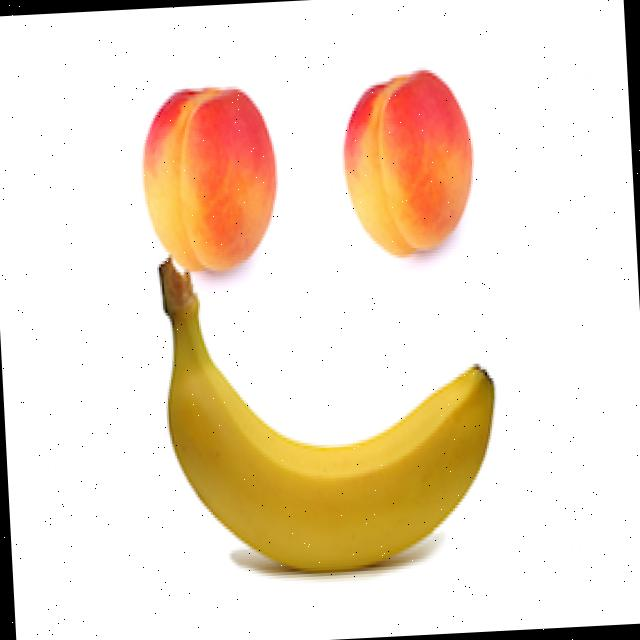Apel: (137, 81, 280, 274), (338, 65, 477, 257)
Pisang: (154, 238, 503, 581)
